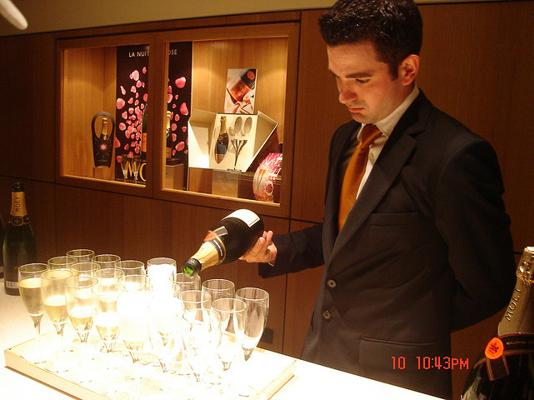person: (205, 3, 518, 400)
